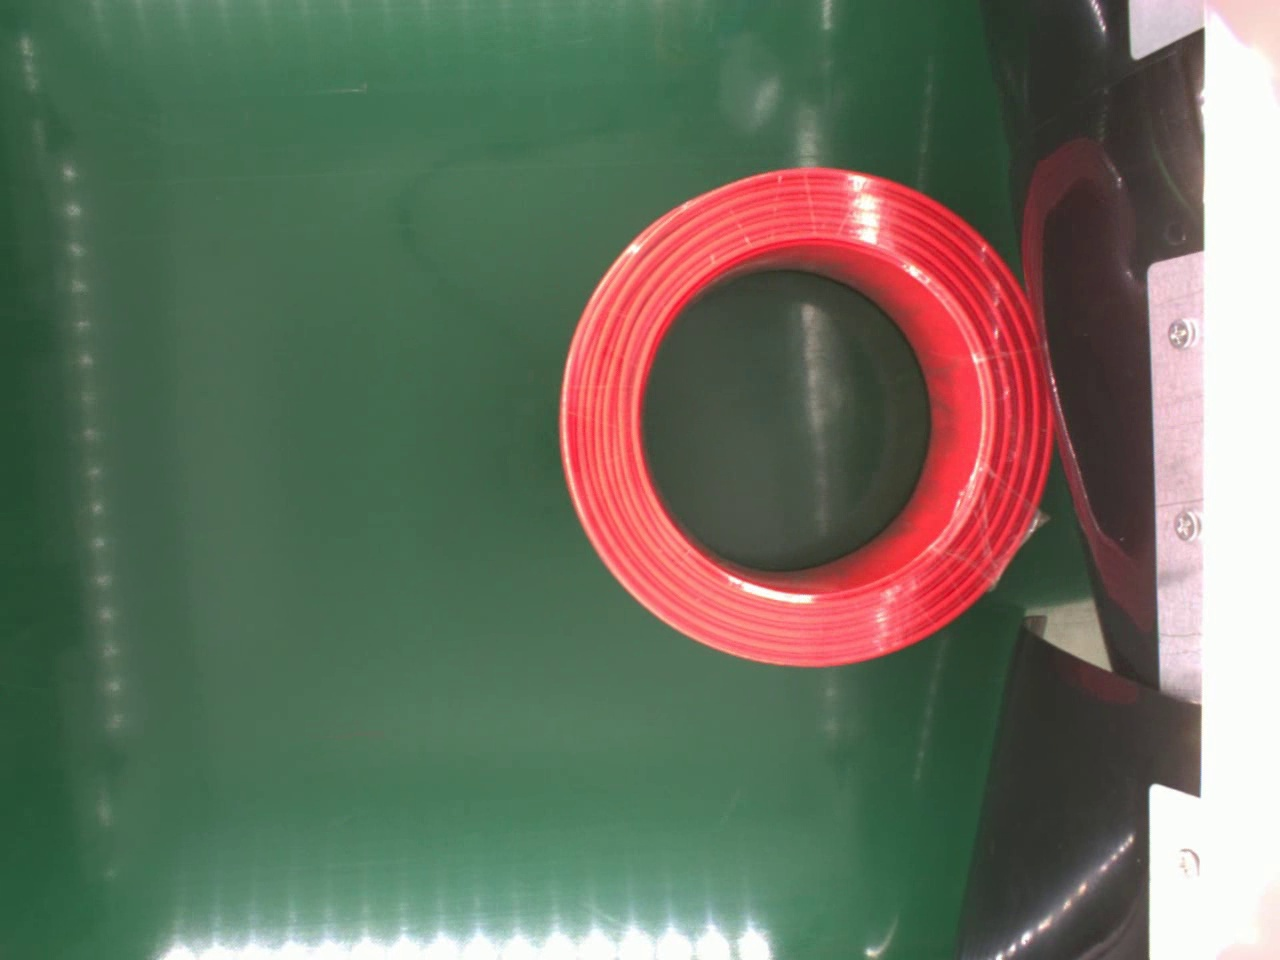red: (556, 165, 1054, 668)
